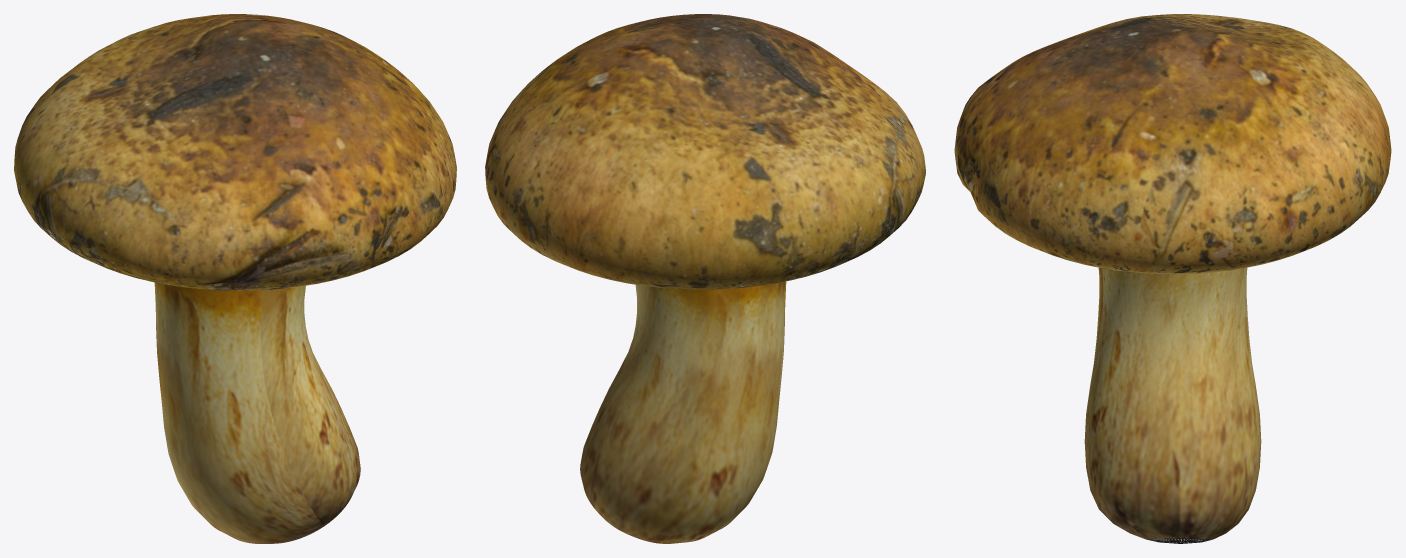
Rendered from SENE_08.fbx.
3 views of the same model, side by side, from view 1: azimuth 30°, elevation 25°; view 2: azimuth 150°, elevation 25°; view 3: azimuth 270°, elevation 25° (orthographic).
Parts seen in each view (by area): view 1: SENE_08; view 2: SENE_08; view 3: SENE_08.
Boxes of the visible parts, left/top/right/bottom form: SENE_08: left=14, top=14, right=456, bottom=543; SENE_08: left=485, top=14, right=925, bottom=543; SENE_08: left=954, top=14, right=1391, bottom=543.
Bounding box in the file's own units: 49.43 × 61.9 × 49.44.
Materials: 1 (1 with a texture image).
